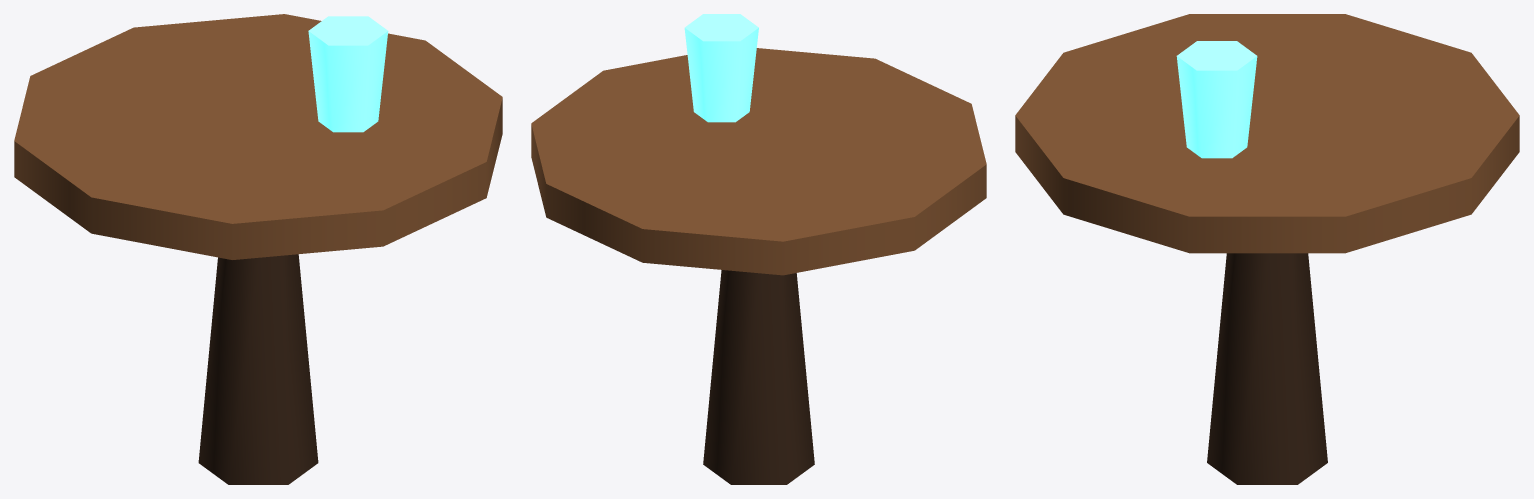
Rendered from f_table.glb.
3 views of the same model, side by side, from view 1: azimuth 30°, elevation 25°; view 2: azimuth 150°, elevation 25°; view 3: azimuth 270°, elevation 25° (orthographic). The views are drawn at different scales.
Parts seen in each view (by area): view 1: table; view 2: table; view 3: table.
Part boxes in pixels (x1,y1,x2,y2): table: (14,14,502,484); table: (531,14,986,484); table: (1015,14,1519,484).
Bounding box in the file's own units: 0.9511 × 0.96 × 1.
